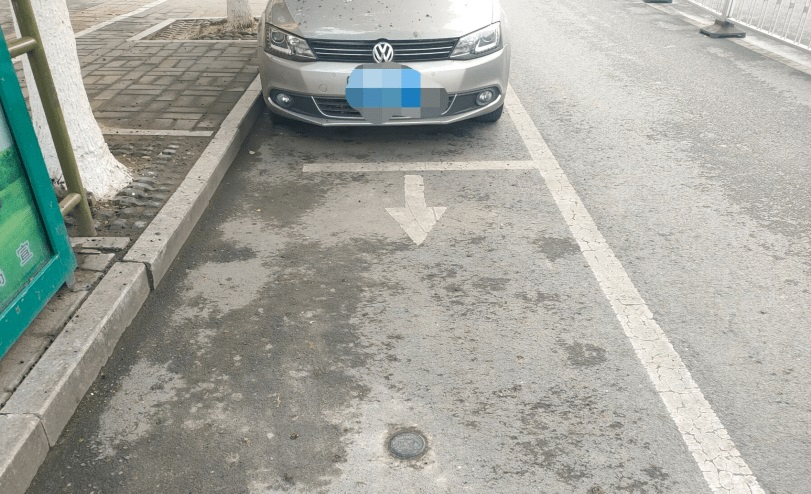slot_nocar: (40, 137, 776, 494)
